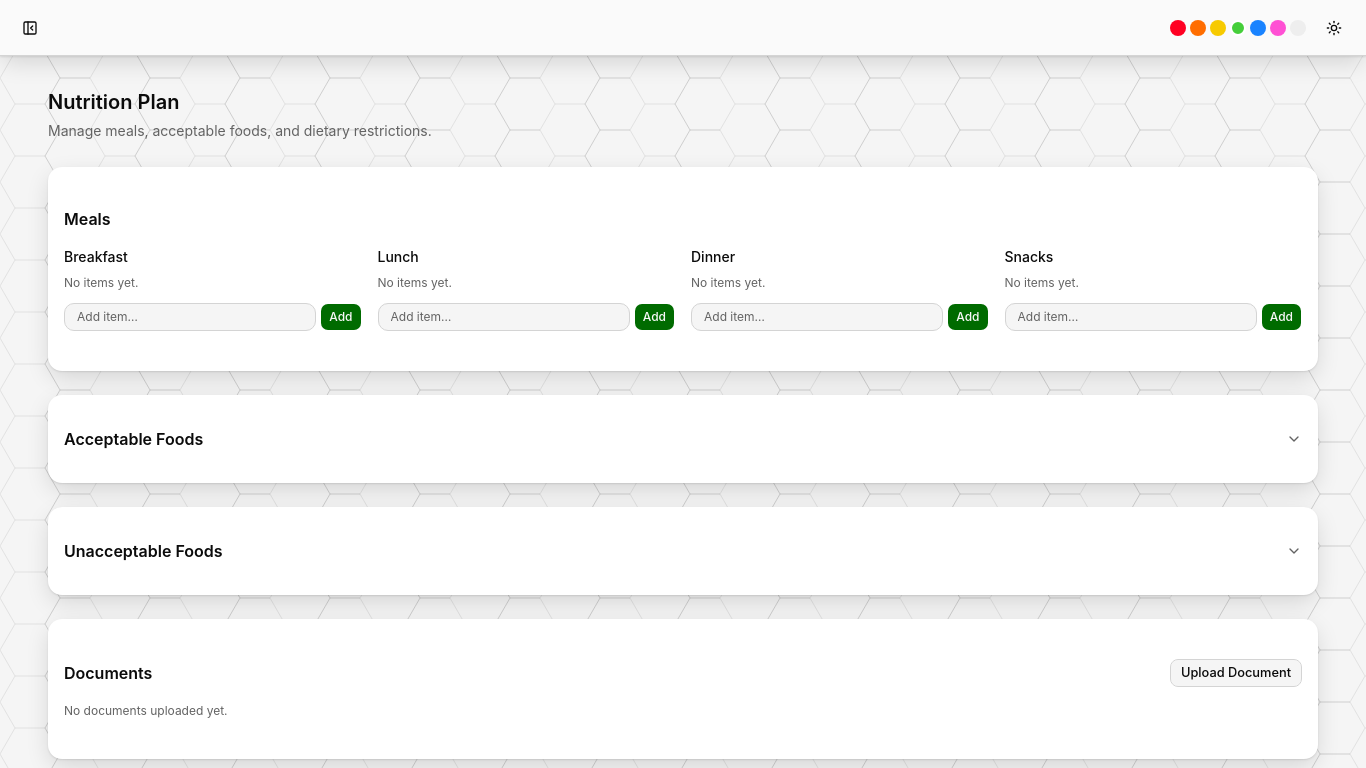
Test: NutritionPlanPage › renders unacceptable food
The width and height of the screenshot is (1366, 768).
Click the button "Unacceptable Foods". click: {"x": 143, "y": 551}
box: [64, 535, 1302, 567]
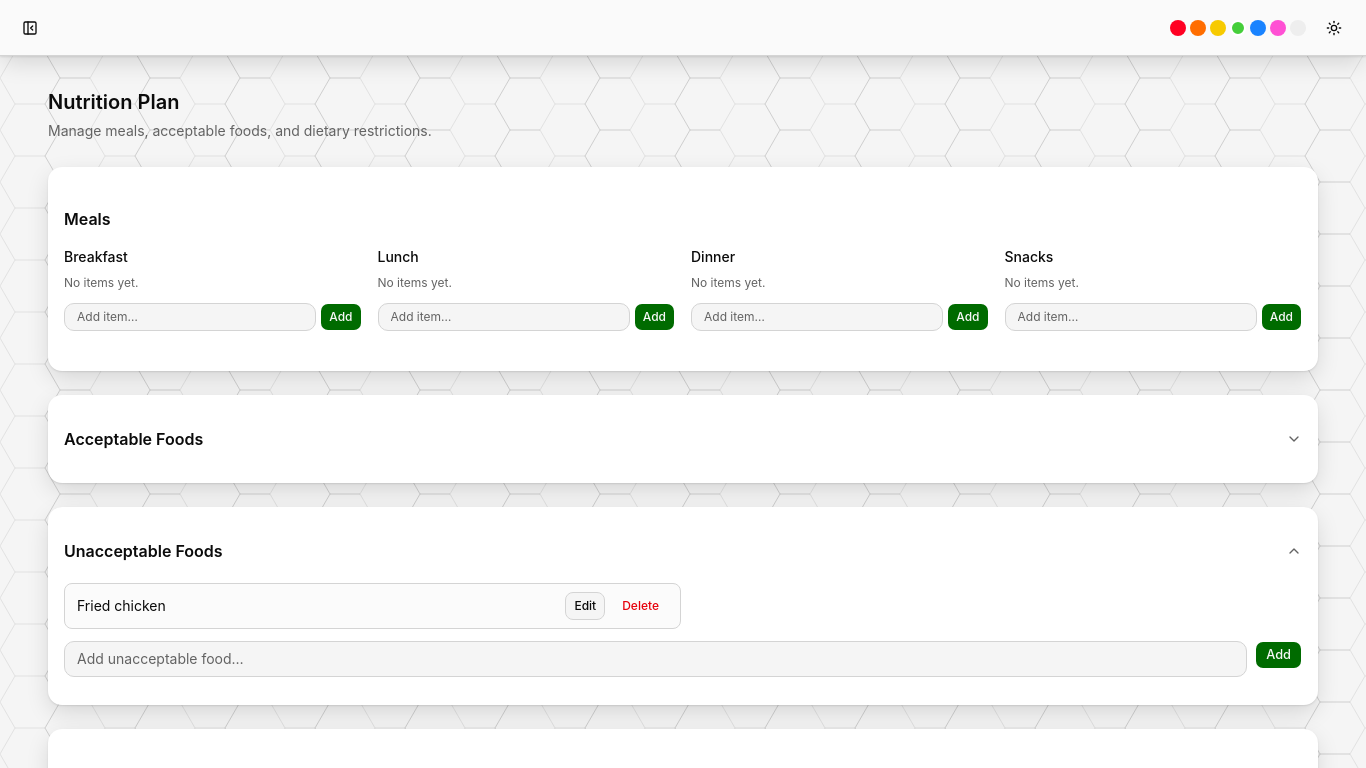
Expected: the text "Fried chicken" is shown, [77, 597, 166, 614]
